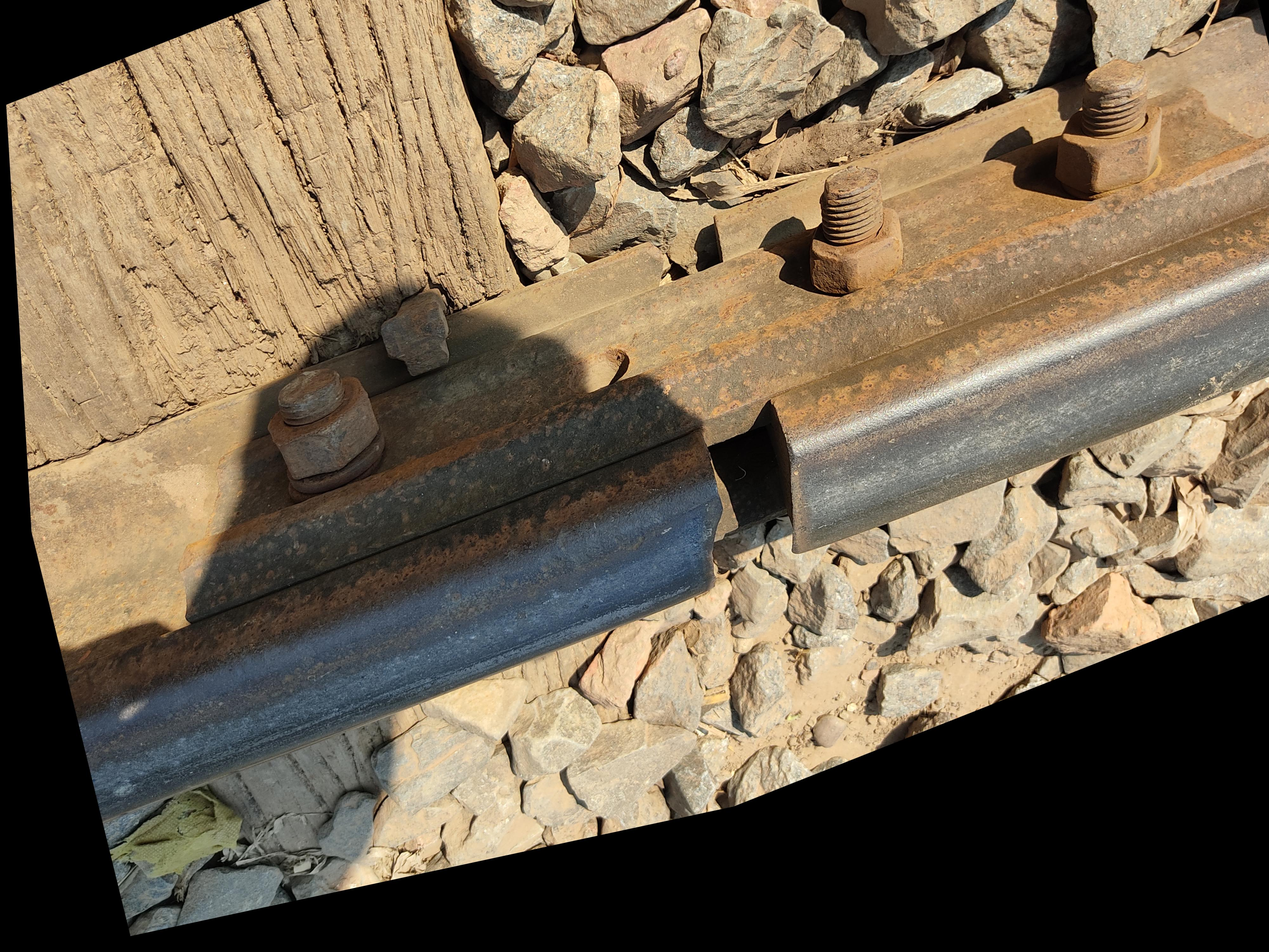person: (385, 703, 514, 845), (379, 609, 459, 690)
